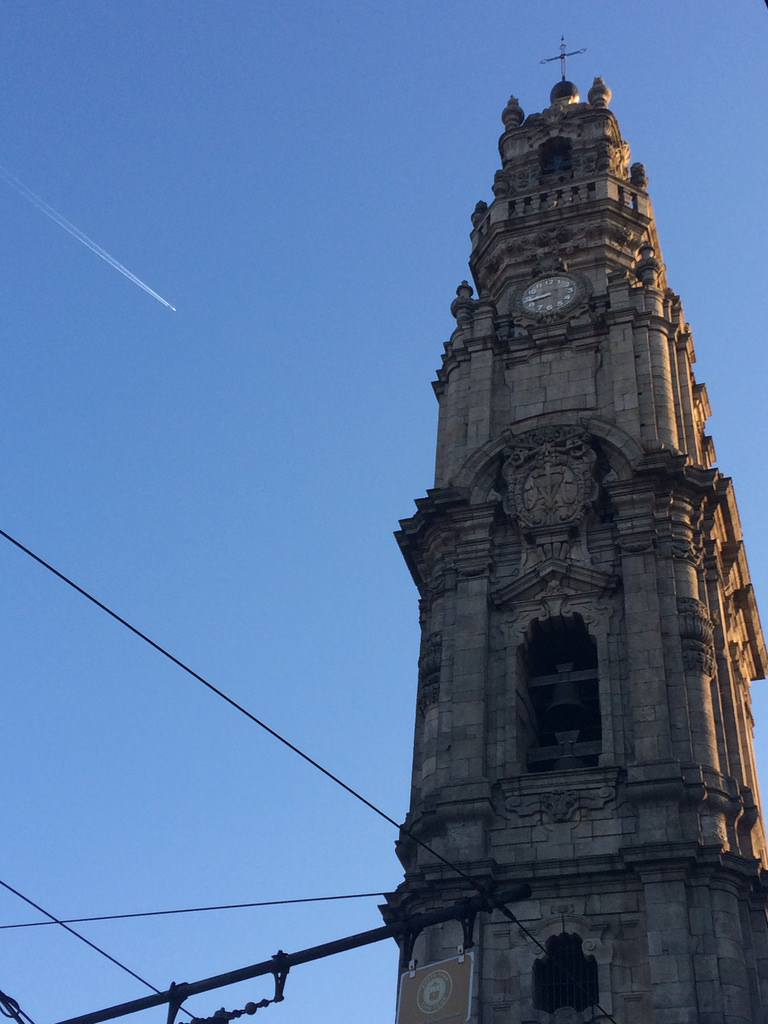clerigos: (392, 37, 767, 1023)
